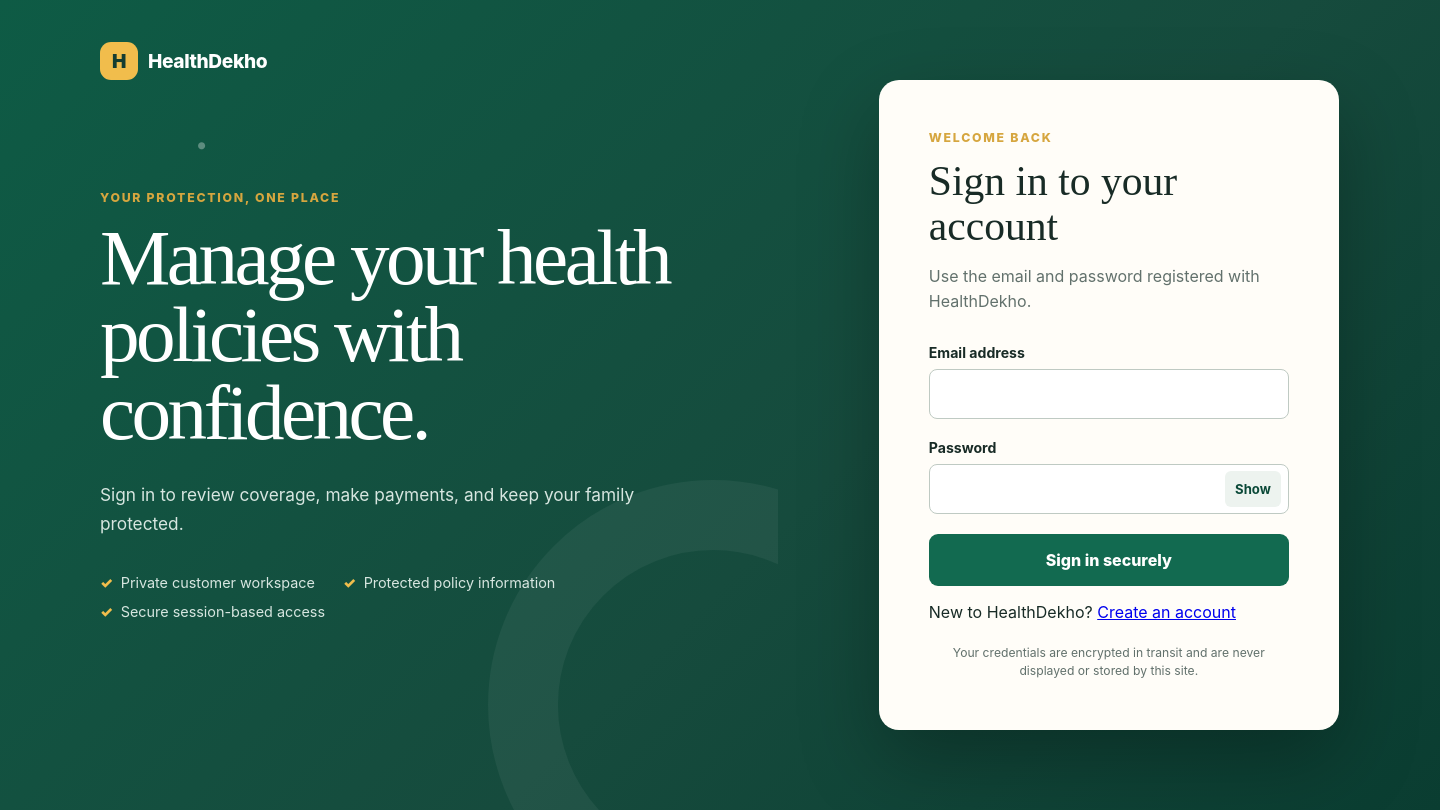
Scenario: sign in › validates email format and required password without calling the API
Type "not-an-email" into the field labelled "Email address" at (1109, 394), box [929,369,1289,419]
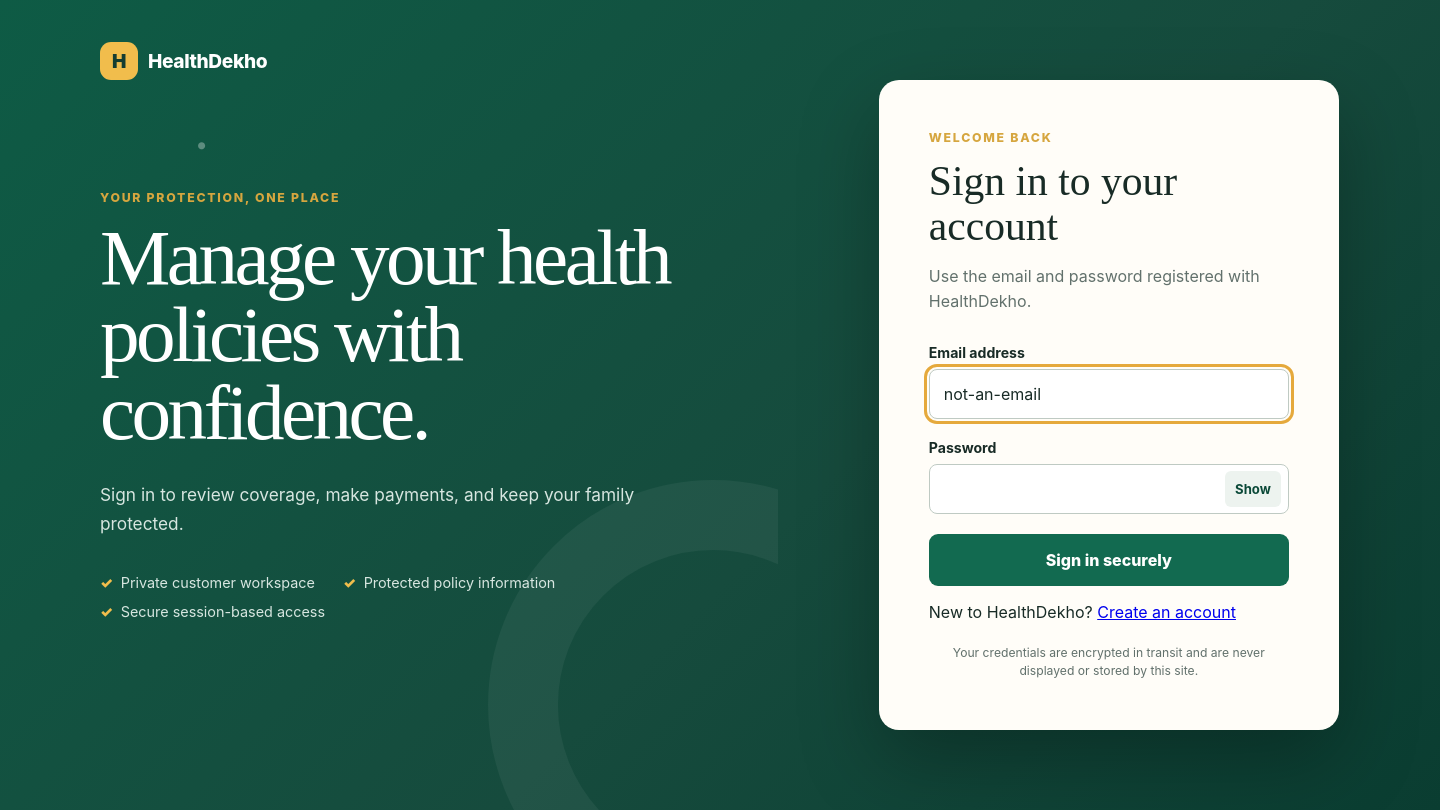
Click the button "Sign in securely" at (1109, 560), box [929,534,1289,586]
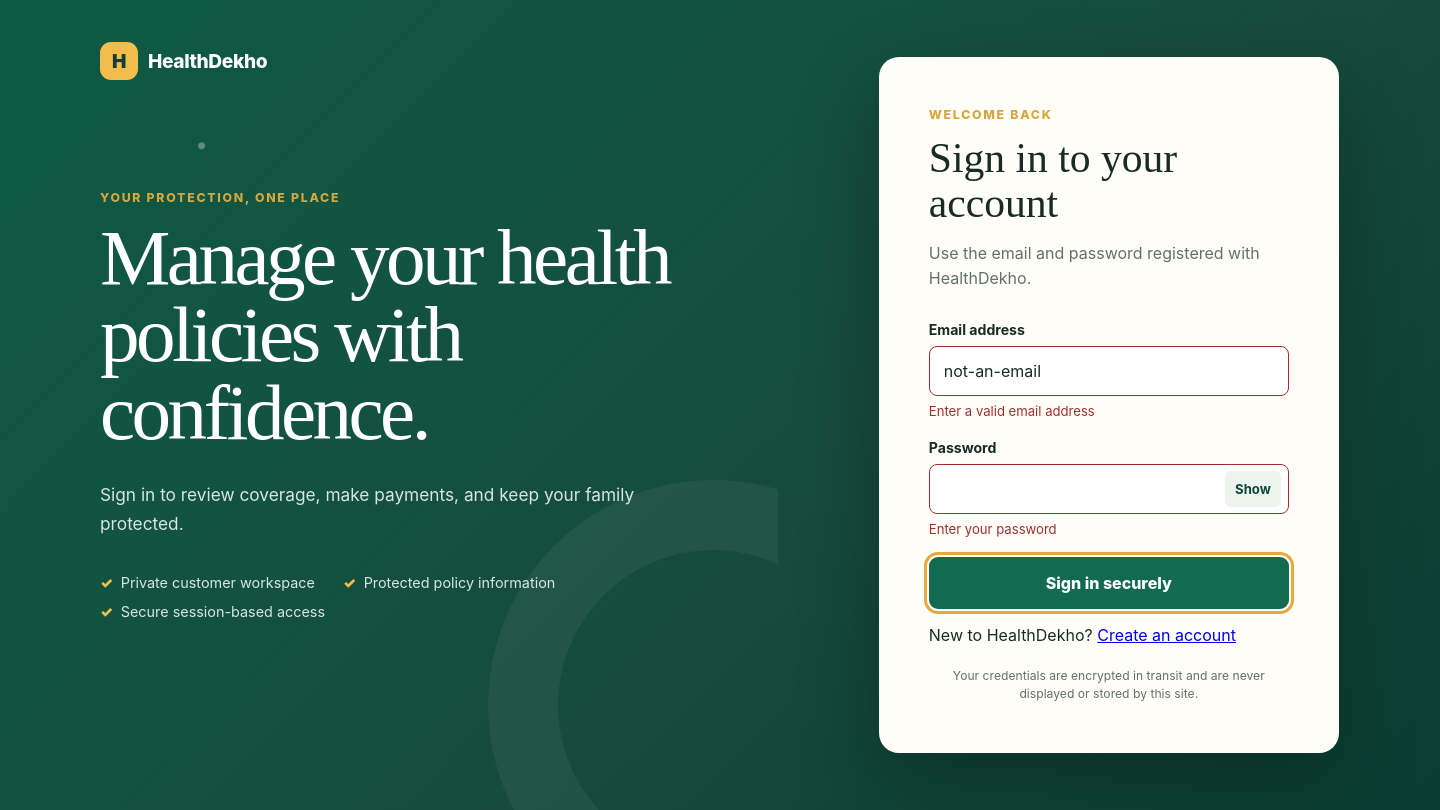
Result: the text "Enter a valid email address" is shown at [929,403,1095,419]
Result: the text "Enter your password" is shown at [929,521,1057,537]
